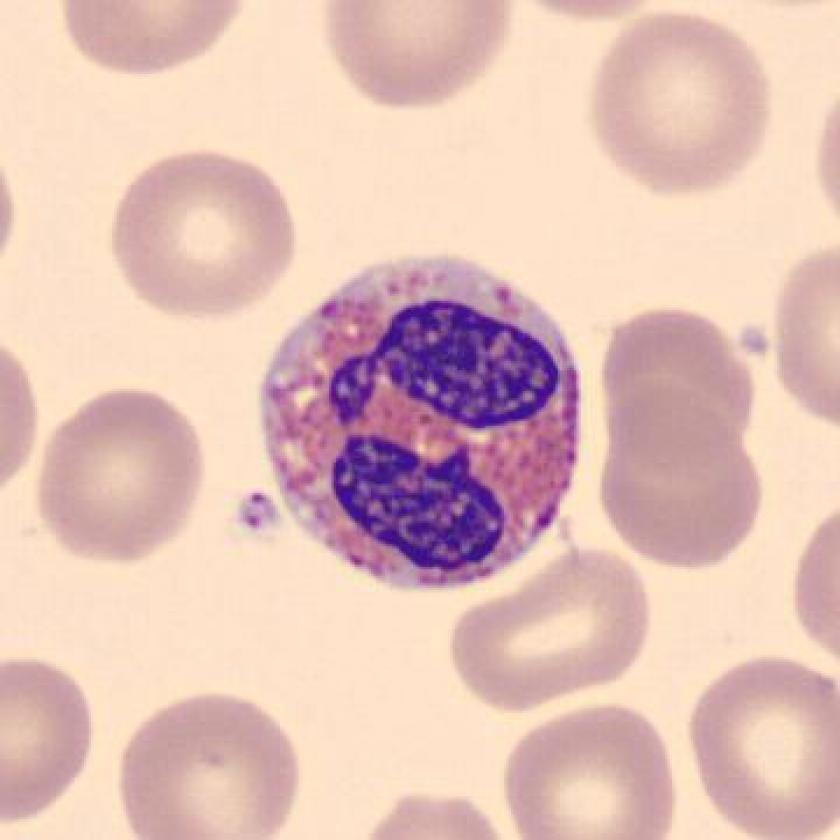eosinophil: (244, 240, 594, 608)
